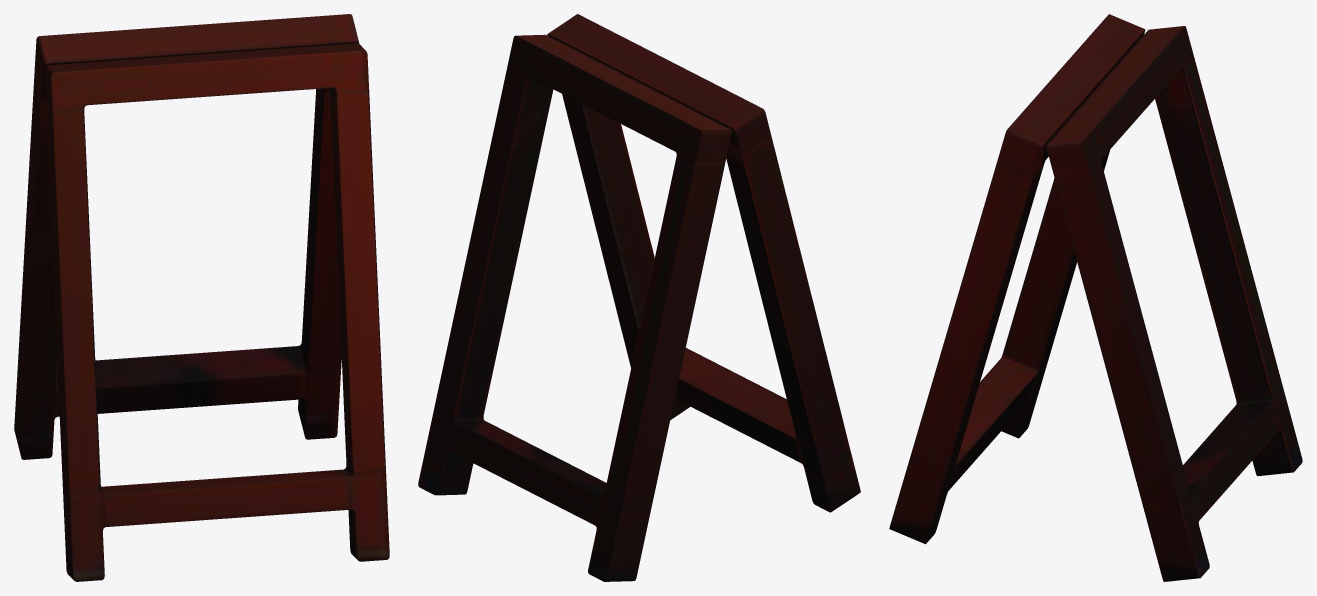
File: icon_email.glb
3 renders of one model, left to right at view 1: azimuth 30°, elevation 25°; view 2: azimuth 150°, elevation 25°; view 3: azimuth 270°, elevation 25°, orthographic. The views are drawn at different scales.
Parts seen in each view (by area): view 1: icon_email1; view 2: icon_email1; view 3: icon_email1.
Boxes of the visible parts, bbox=[...] form: icon_email1: bbox=[14, 14, 389, 581]; icon_email1: bbox=[418, 14, 860, 581]; icon_email1: bbox=[889, 14, 1302, 581].
Size of the model in its own units: 0.2066 by 0.2483 by 0.2173.
1 material, 1 textured.
